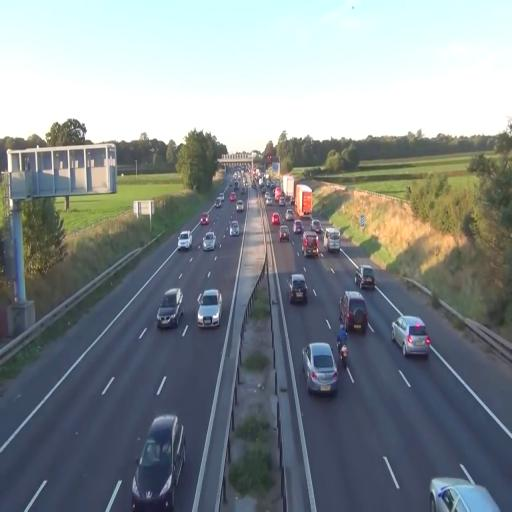vehicle: (132, 413, 186, 511), (429, 467, 500, 512), (303, 342, 339, 396), (392, 315, 430, 356), (339, 290, 368, 334), (155, 287, 183, 331), (403, 317, 430, 356), (198, 288, 222, 328), (292, 181, 314, 219), (294, 181, 313, 219), (288, 273, 308, 305), (356, 265, 376, 291), (302, 231, 320, 258), (338, 326, 348, 366), (326, 231, 340, 255), (178, 230, 191, 250), (202, 233, 216, 251), (229, 220, 240, 237)
